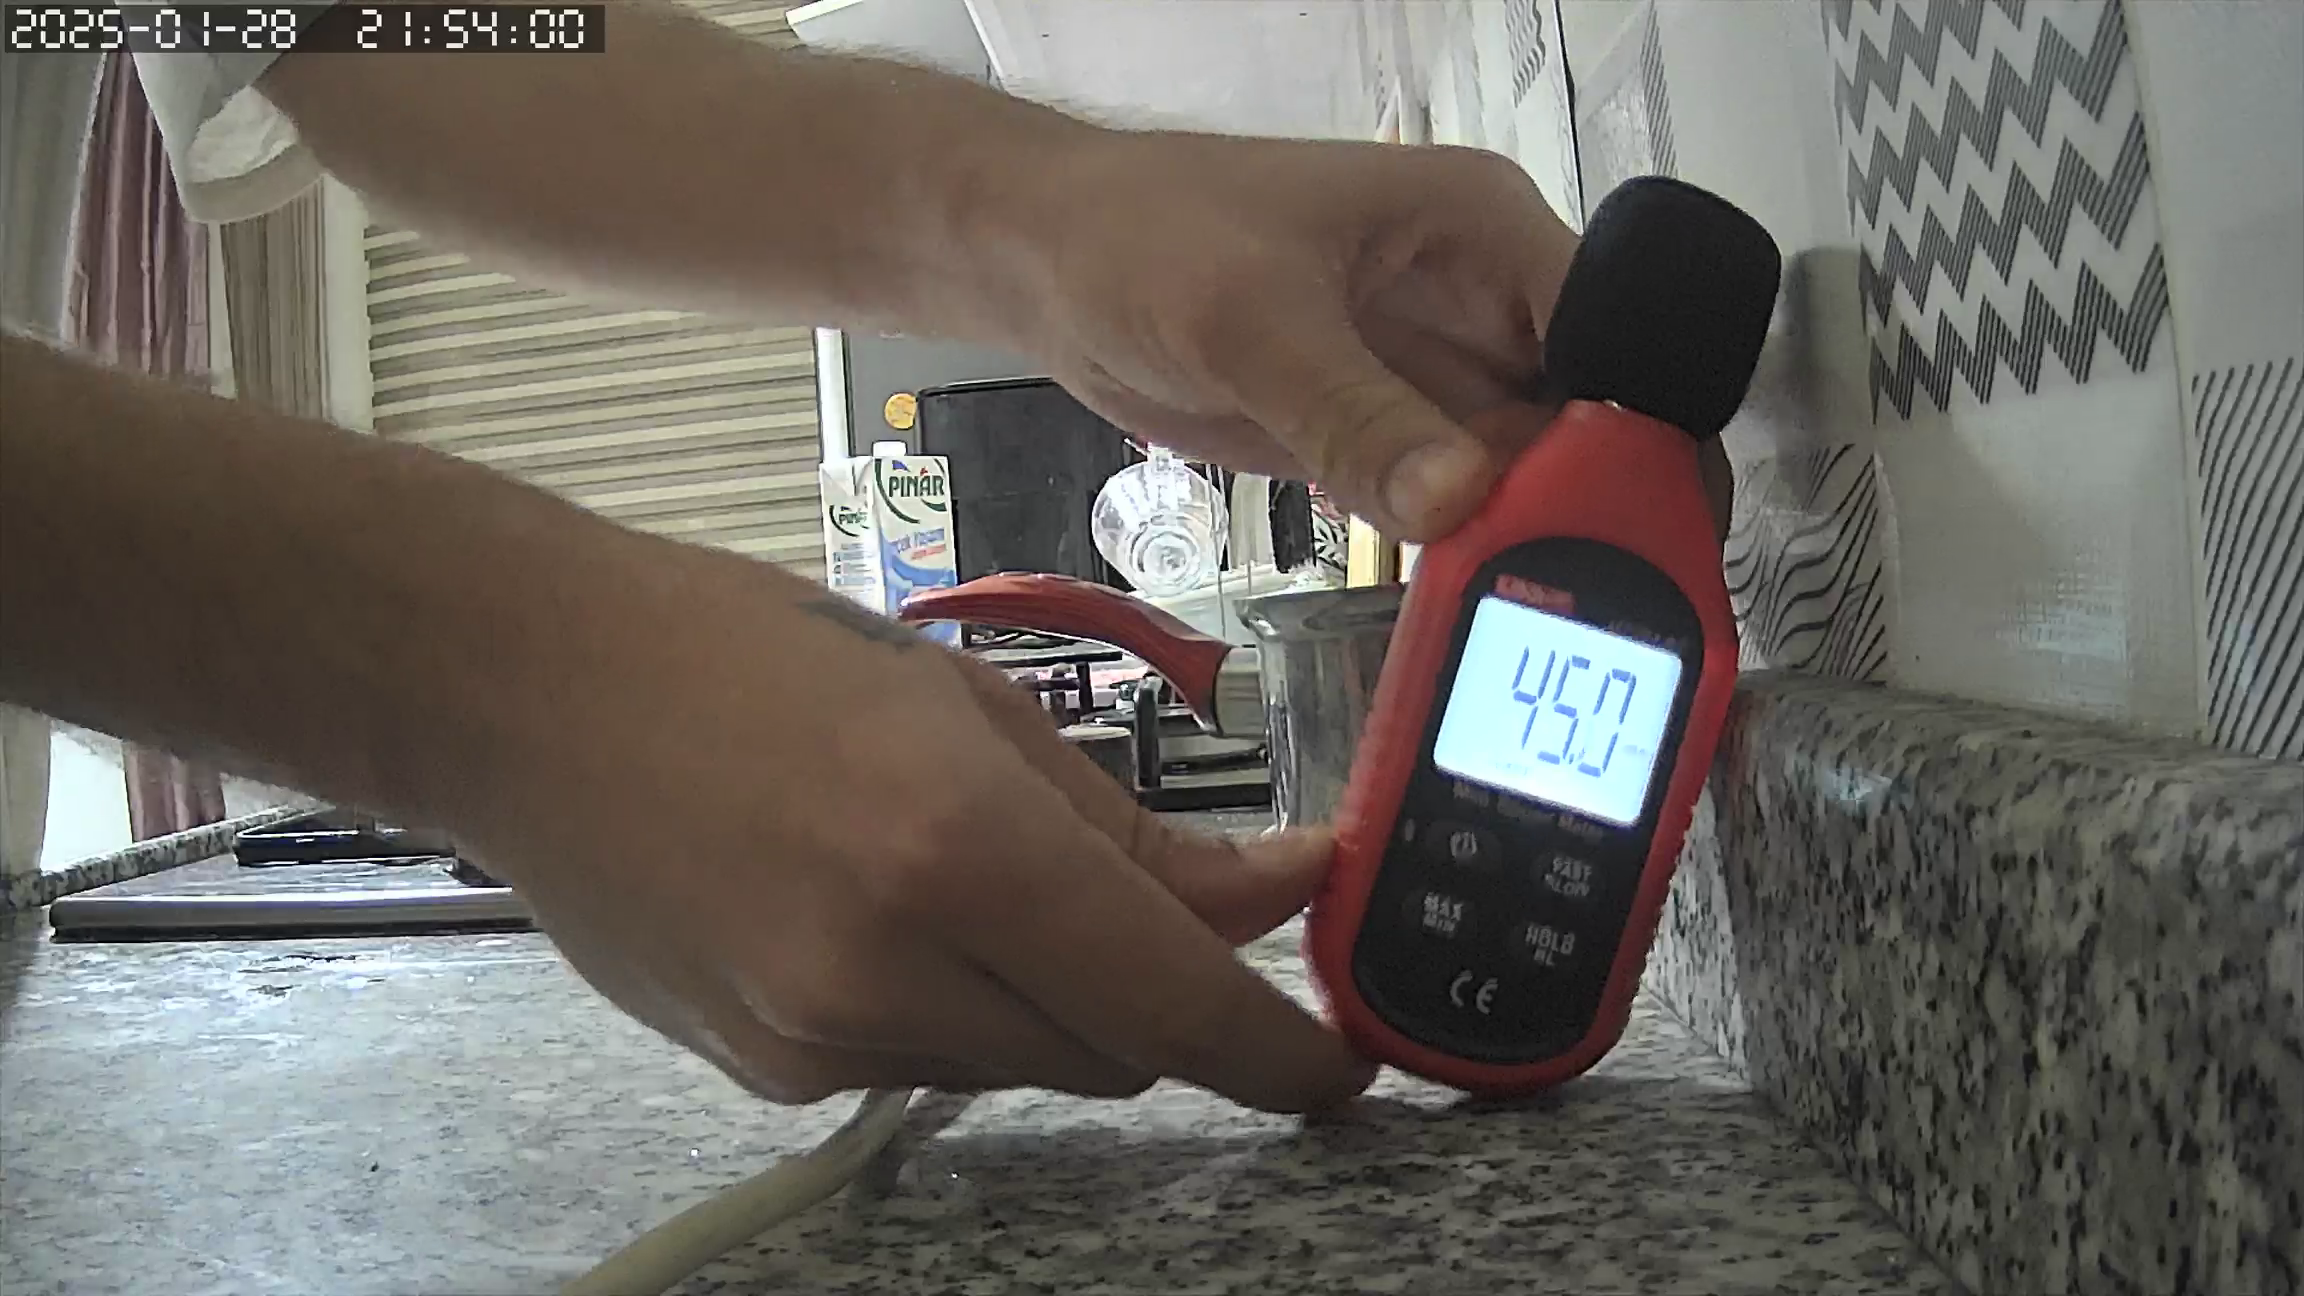screen: (1431, 597, 1677, 824)
